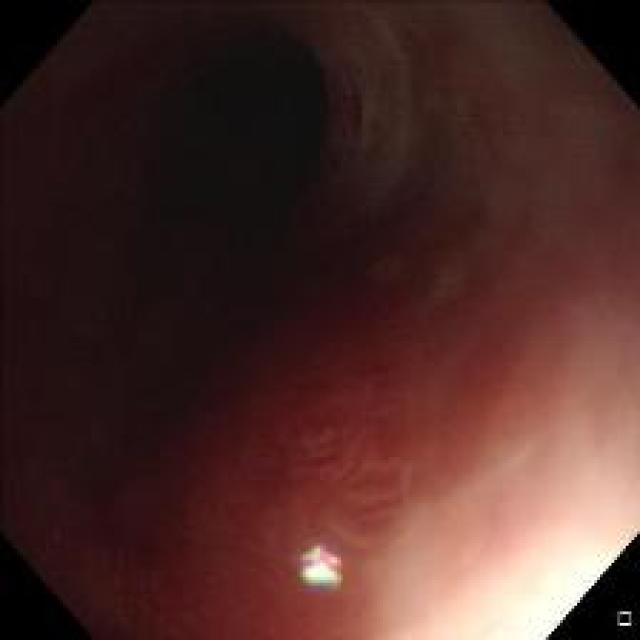color misalignment: (289, 536, 356, 605)
contrast: (35, 24, 381, 474)
saturation: (398, 505, 626, 632)
specularity: (305, 565, 328, 581)
